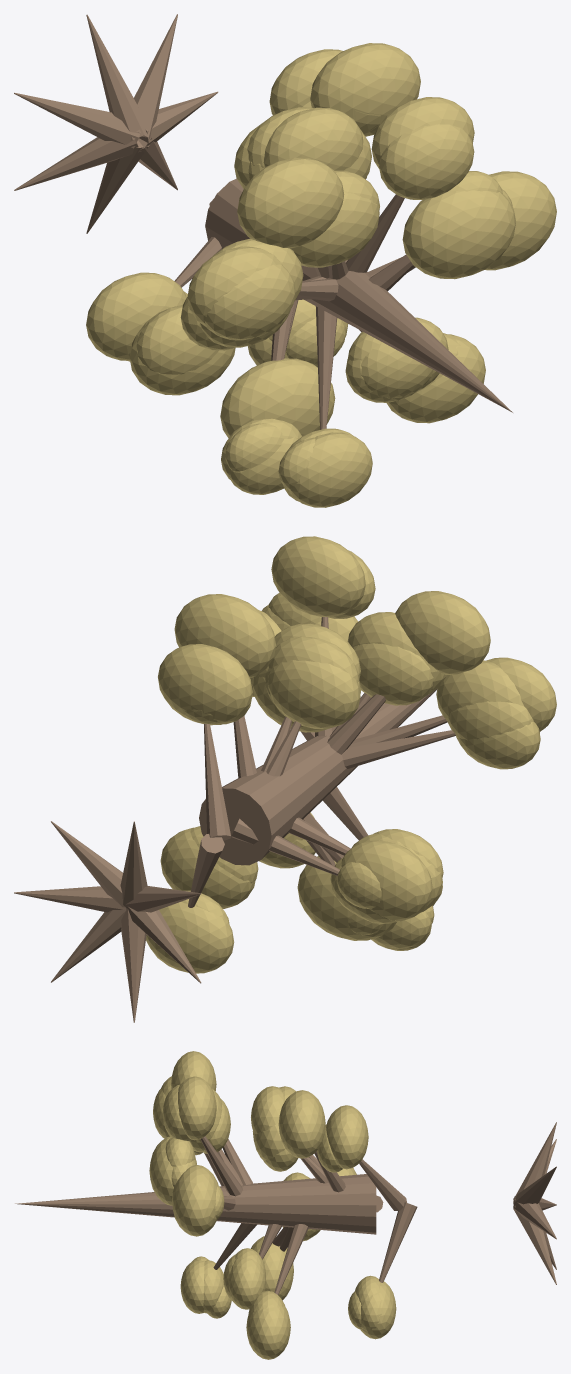
Rendered from Akariz_Tree_Golden_Crown.glb.
The picture shows the model from 3 angles, top to bottom: view 1: azimuth 30°, elevation 25°; view 2: azimuth 150°, elevation 25°; view 3: azimuth 270°, elevation 25°; orthographic projection. The views are drawn at different scales.
Visible parts, largest first — view 1: Akariz_Tree_Golden_Crown_trunk, Akariz_Tree_Golden_Crown_leaf14_2, Akariz_Tree_Golden_Crown_leaf8_3, Akariz_Tree_Golden_Crown_leaf15_3, Akariz_Tree_Golden_Crown_leaf16_3, Akariz_Tree_Golden_Crown_leaf9_2, Akariz_Tree_Golden_Crown_leaf1_1, Akariz_Tree_Golden_Crown_leaf10_0, Akariz_Tree_Golden_Crown_leaf2_1, Akariz_Tree_Golden_Crown_leaf13_1, Akariz_Tree_Golden_Crown_leaf17_0, Akariz_Tree_Golden_Crown_leaf5_1 (+33 smaller); view 2: Akariz_Tree_Golden_Crown_trunk, Akariz_Tree_Golden_Crown_leaf9_3, Akariz_Tree_Golden_Crown_leaf8_3, Akariz_Tree_Golden_Crown_leaf11_2, Akariz_Tree_Golden_Crown_leaf15_3, Akariz_Tree_Golden_Crown_leaf3_2, Akariz_Tree_Golden_Crown_leaf1_1, Akariz_Tree_Golden_Crown_leaf7_1, Akariz_Tree_Golden_Crown_leaf5_2, Akariz_Tree_Golden_Crown_leaf12_1, Akariz_Tree_Golden_Crown_leaf10_3, Akariz_Tree_Golden_Crown_leaf16_3 (+32 smaller); view 3: Akariz_Tree_Golden_Crown_trunk, Akariz_Tree_Golden_Crown_leaf17_0, Akariz_Tree_Golden_Crown_leaf15_3, Akariz_Tree_Golden_Crown_leaf11_2, Akariz_Tree_Golden_Crown_leaf9_3, Akariz_Tree_Golden_Crown_leaf12_1, Akariz_Tree_Golden_Crown_leaf0_3, Akariz_Tree_Golden_Crown_leaf2_1, Akariz_Tree_Golden_Crown_leaf14_2, Akariz_Tree_Golden_Crown_leaf8_3, Akariz_Tree_Golden_Crown_leaf16_3, Akariz_Tree_Golden_Crown_leaf13_1 (+24 smaller).
Part boxes in pixels (x1,y1,x2,y2): Akariz_Tree_Golden_Crown_trunk: [205, 178, 512, 412]; Akariz_Tree_Golden_Crown_leaf14_2: [402, 190, 515, 279]; Akariz_Tree_Golden_Crown_leaf8_3: [237, 157, 344, 248]; Akariz_Tree_Golden_Crown_leaf15_3: [310, 43, 420, 136]; Akariz_Tree_Golden_Crown_leaf16_3: [220, 358, 335, 438]; Akariz_Tree_Golden_Crown_leaf9_2: [379, 124, 474, 199]; Akariz_Tree_Golden_Crown_leaf1_1: [86, 272, 186, 360]; Akariz_Tree_Golden_Crown_leaf10_0: [204, 264, 295, 340]; Akariz_Tree_Golden_Crown_leaf2_1: [263, 107, 363, 170]; Akariz_Tree_Golden_Crown_leaf13_1: [288, 432, 372, 507]; Akariz_Tree_Golden_Crown_leaf17_0: [485, 171, 556, 270]; Akariz_Tree_Golden_Crown_leaf5_1: [290, 192, 379, 267]; Akariz_Tree_Golden_Crown_trunk: [199, 689, 437, 865]; Akariz_Tree_Golden_Crown_leaf9_3: [271, 536, 365, 616]; Akariz_Tree_Golden_Crown_leaf8_3: [395, 591, 490, 674]; Akariz_Tree_Golden_Crown_leaf11_2: [158, 644, 252, 725]; Akariz_Tree_Golden_Crown_leaf15_3: [174, 594, 275, 677]; Akariz_Tree_Golden_Crown_leaf3_2: [268, 660, 360, 728]; Akariz_Tree_Golden_Crown_leaf1_1: [341, 840, 432, 921]; Akariz_Tree_Golden_Crown_leaf7_1: [146, 902, 234, 973]; Akariz_Tree_Golden_Crown_leaf5_2: [352, 643, 433, 705]; Akariz_Tree_Golden_Crown_leaf12_1: [160, 827, 255, 908]; Akariz_Tree_Golden_Crown_leaf10_3: [436, 660, 523, 722]; Akariz_Tree_Golden_Crown_leaf16_3: [297, 856, 396, 940]; Akariz_Tree_Golden_Crown_trunk: [15, 1174, 376, 1234]; Akariz_Tree_Golden_Crown_leaf17_0: [172, 1164, 218, 1236]; Akariz_Tree_Golden_Crown_leaf15_3: [278, 1090, 325, 1158]; Akariz_Tree_Golden_Crown_leaf11_2: [326, 1105, 368, 1169]; Akariz_Tree_Golden_Crown_leaf9_3: [178, 1076, 216, 1140]; Akariz_Tree_Golden_Crown_leaf12_1: [246, 1306, 290, 1359]; Akariz_Tree_Golden_Crown_leaf0_3: [229, 1257, 266, 1309]; Akariz_Tree_Golden_Crown_leaf2_1: [251, 1086, 284, 1133]; Akariz_Tree_Golden_Crown_leaf14_2: [149, 1136, 196, 1205]; Akariz_Tree_Golden_Crown_leaf8_3: [171, 1051, 216, 1091]; Akariz_Tree_Golden_Crown_leaf16_3: [251, 1236, 293, 1300]; Akariz_Tree_Golden_Crown_leaf13_1: [180, 1260, 204, 1313].
Bounding box in the file's own units: 7.29 × 7.24 × 13.49.
